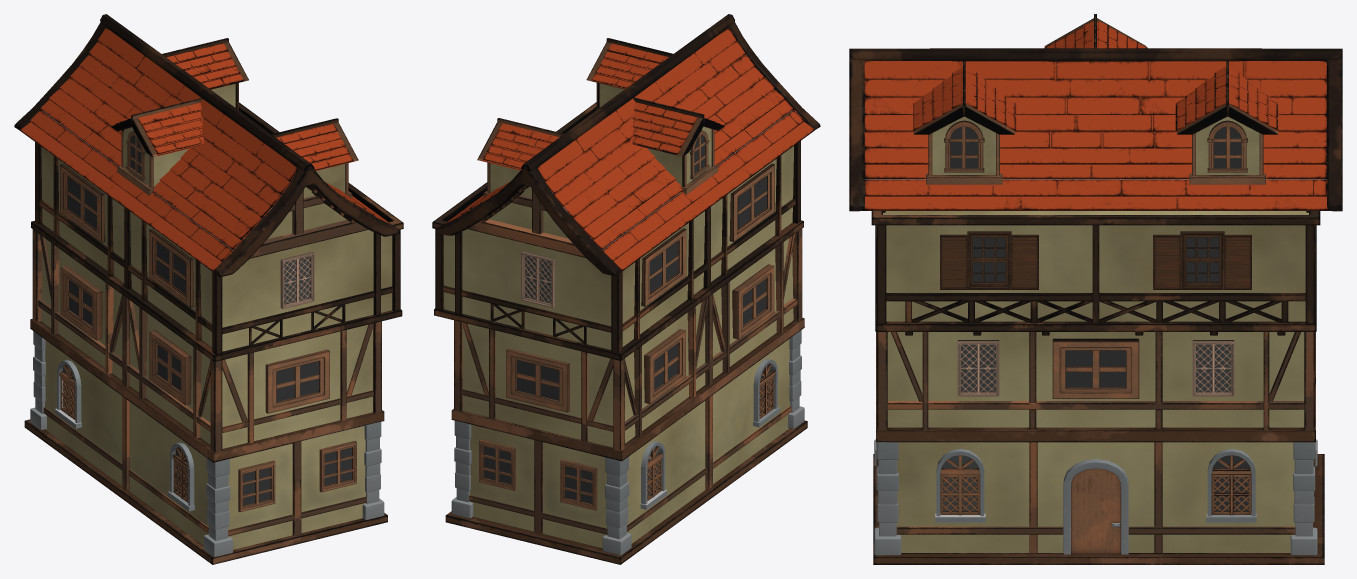
The model's file is House03_low.fbx.
The picture shows the model from 3 angles, left to right: view 1: azimuth 30°, elevation 25°; view 2: azimuth 150°, elevation 25°; view 3: azimuth 270°, elevation 25°; orthographic projection. The views are drawn at different scales.
Parts seen in each view (by area): view 1: House03_Low; view 2: House03_Low; view 3: House03_Low.
Part boxes in pixels (left/top/right/bottom): House03_Low: left=14, top=14, right=403, bottom=564; House03_Low: left=432, top=14, right=820, bottom=564; House03_Low: left=849, top=14, right=1342, bottom=564.
Bounding box in the file's own units: 679 × 1283 × 1238.
6 materials, 6 textured.
